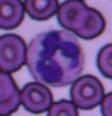N: (26, 29, 83, 87)
